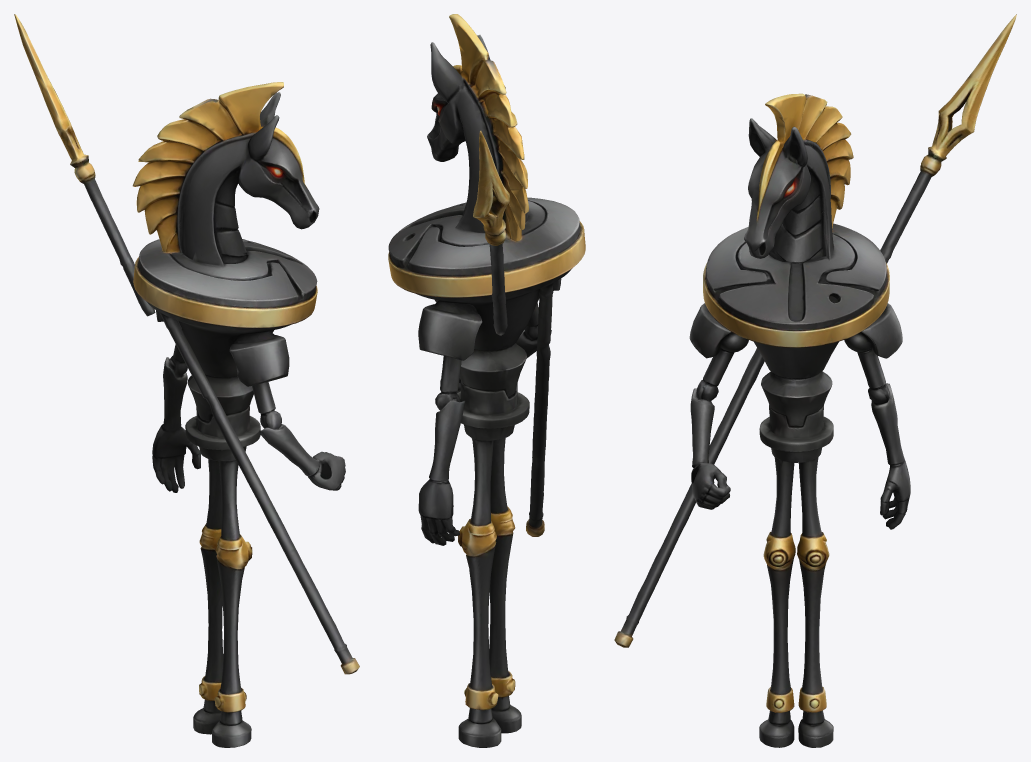
File: knight.glb
3 renders of one model, left to right at view 1: azimuth 30°, elevation 25°; view 2: azimuth 150°, elevation 25°; view 3: azimuth 270°, elevation 25°, orthographic. The views are drawn at different scales.
Parts seen in each view (by area): view 1: tripo_node_23212c82-d2f1-46e3-b02d-e4a4e3adf42e; view 2: tripo_node_23212c82-d2f1-46e3-b02d-e4a4e3adf42e; view 3: tripo_node_23212c82-d2f1-46e3-b02d-e4a4e3adf42e.
Boxes of the visible parts, <box> form: tripo_node_23212c82-d2f1-46e3-b02d-e4a4e3adf42e: <box>14,14,359,747</box>; tripo_node_23212c82-d2f1-46e3-b02d-e4a4e3adf42e: <box>388,14,585,747</box>; tripo_node_23212c82-d2f1-46e3-b02d-e4a4e3adf42e: <box>614,14,1016,747</box>.
Size of the model in its own units: 0.2876 by 1 by 0.5391.
Materials: 1 (1 with a texture image).
